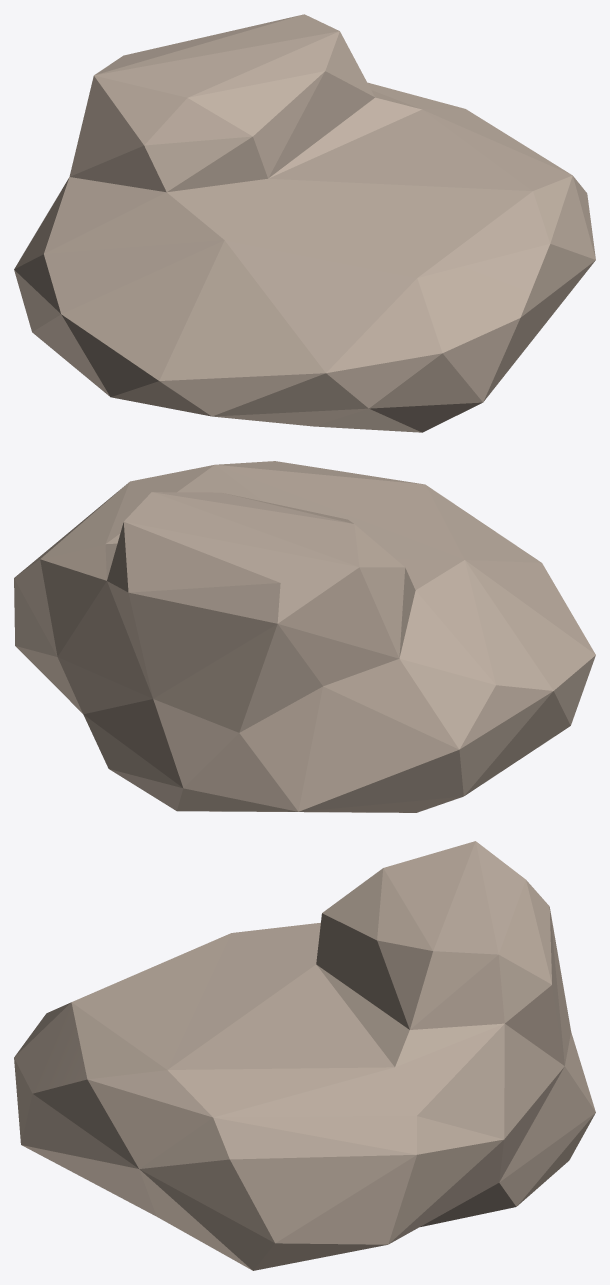
The model's file is LandscapeRock2.glb.
3 views of the same model, one above another, from view 1: azimuth 30°, elevation 25°; view 2: azimuth 150°, elevation 25°; view 3: azimuth 270°, elevation 25° (orthographic). The views are drawn at different scales.
Parts seen in each view (by area): view 1: LandscapeRock2; view 2: LandscapeRock2; view 3: LandscapeRock2.
Part boxes in pixels (x1,y1,x2,y2): LandscapeRock2: (14, 14, 595, 432); LandscapeRock2: (14, 461, 595, 812); LandscapeRock2: (14, 841, 595, 1270).
Size of the model in its own units: 1.95 by 0.9291 by 1.88.
